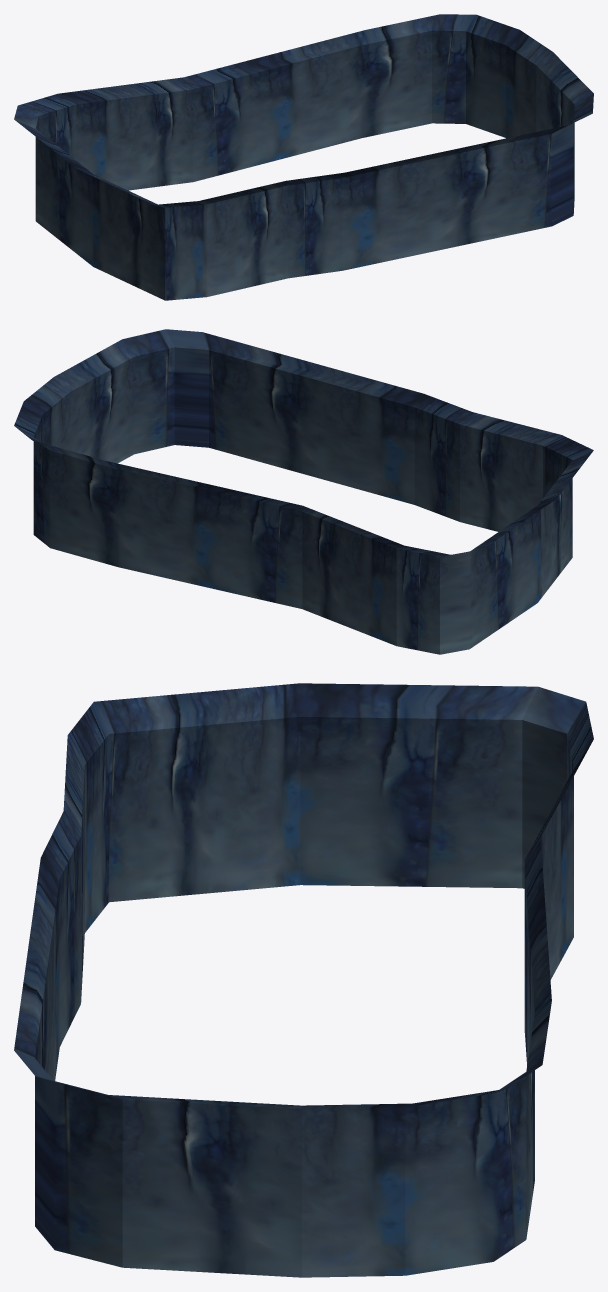
File: CZPlat_5_Lat_2.gltf
3 renders of one model, top to bottom at view 1: azimuth 30°, elevation 25°; view 2: azimuth 150°, elevation 25°; view 3: azimuth 270°, elevation 25°, orthographic. The views are drawn at different scales.
Visible parts, largest first — view 1: CZPlat_5_Lat_2; view 2: CZPlat_5_Lat_2; view 3: CZPlat_5_Lat_2.
Boxes of the visible parts, bbox=[...] form: CZPlat_5_Lat_2: bbox=[14, 14, 593, 300]; CZPlat_5_Lat_2: bbox=[14, 329, 593, 654]; CZPlat_5_Lat_2: bbox=[14, 683, 593, 1277].
Size of the model in its own units: 41.46 by 8.53 by 24.07.
1 material, 1 textured.
